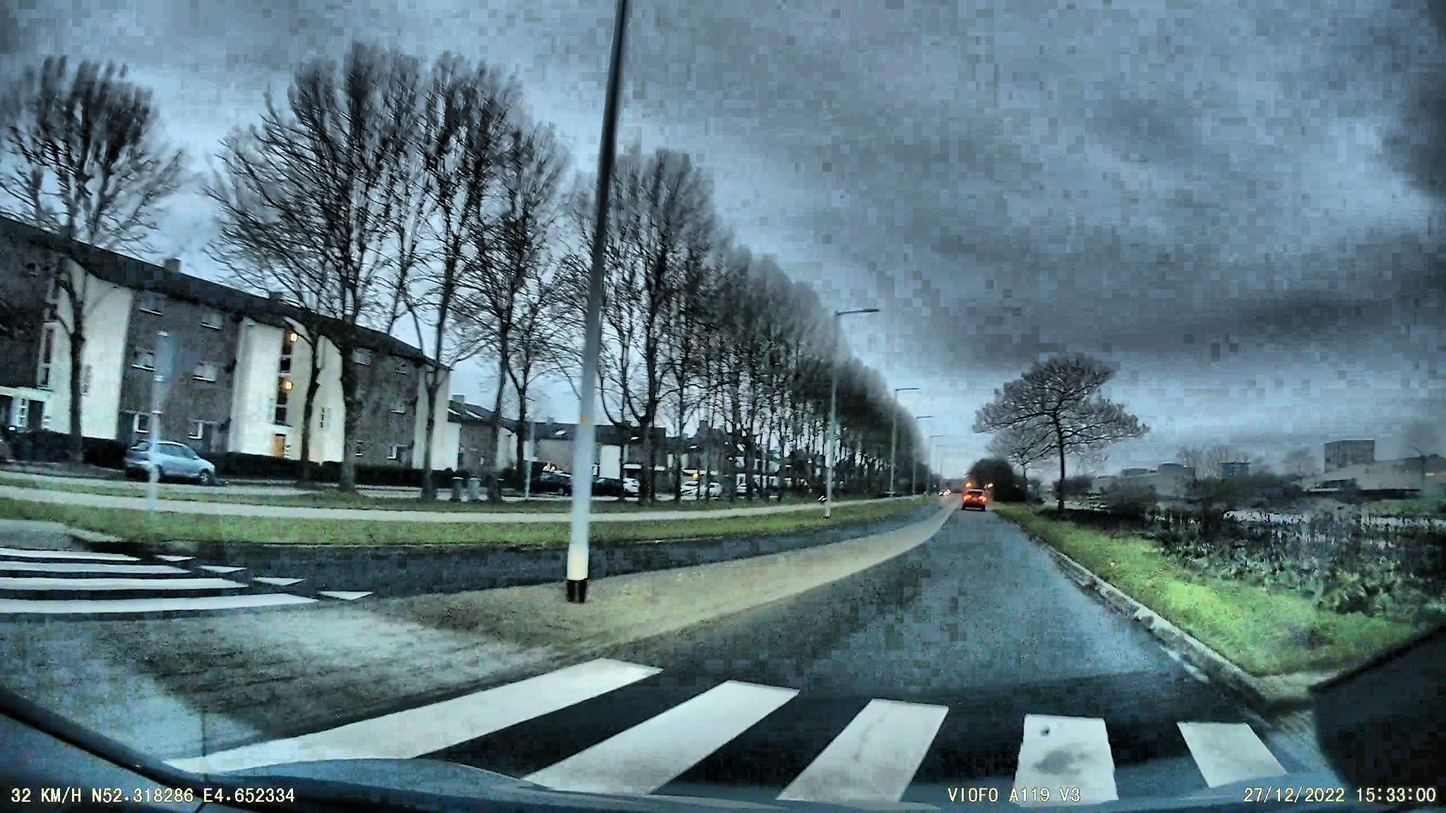Roads: (175, 504, 1370, 813)
